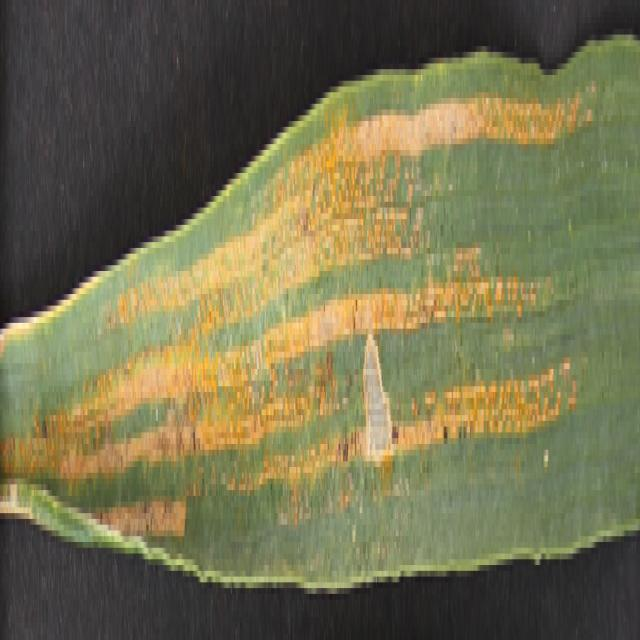leaf rust: (14, 6, 587, 548)
